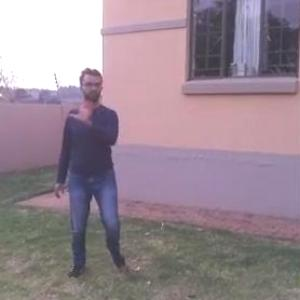follow_hand: (65, 97, 95, 121)
